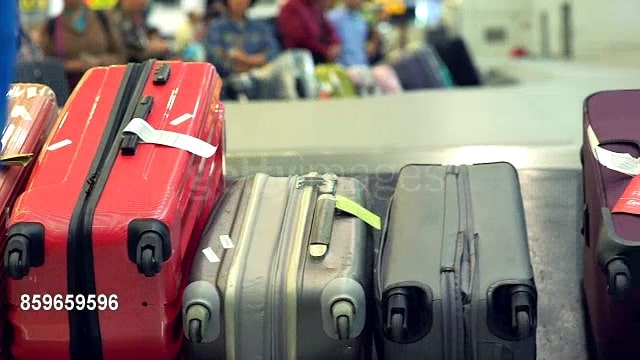baggage: (20, 59, 222, 360), (373, 157, 543, 359), (191, 165, 366, 360)
